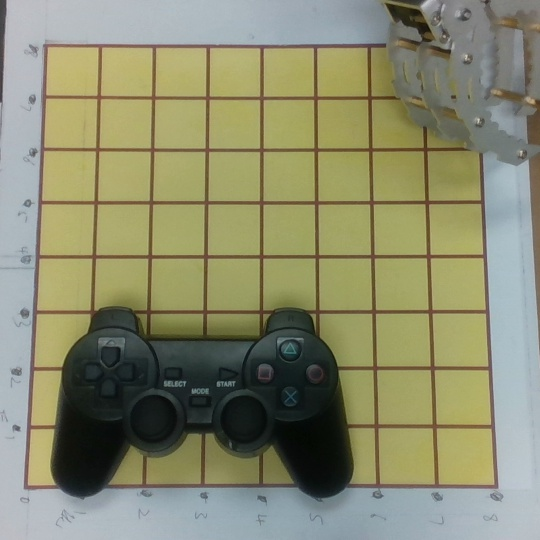remote: (51, 306, 355, 497)
